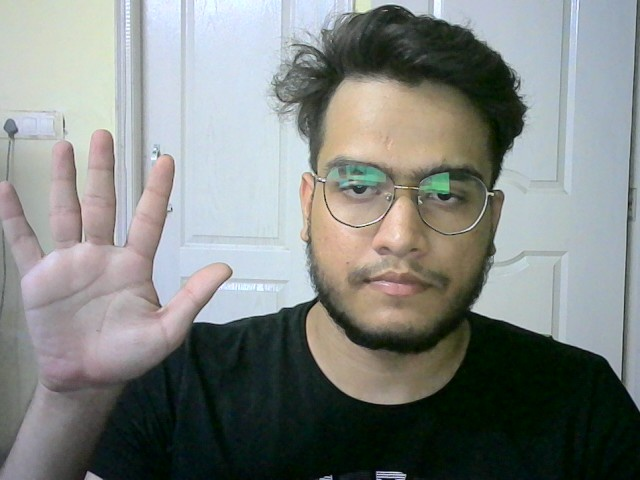Hello: (1, 119, 236, 391)
